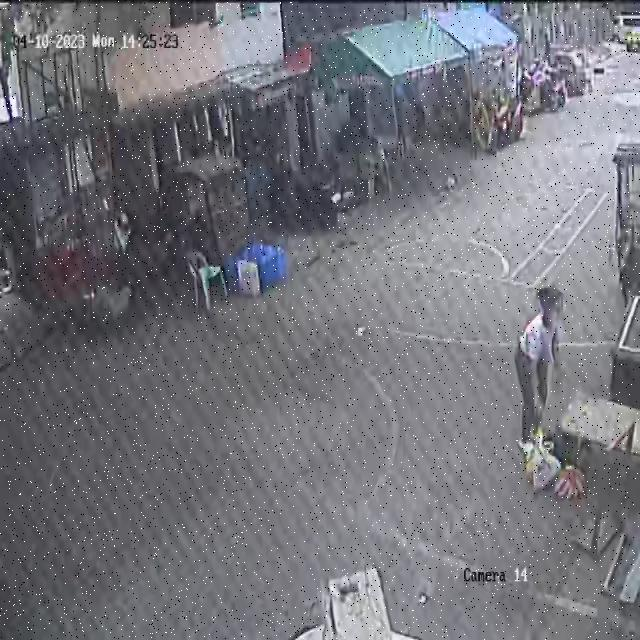human: (514, 283, 588, 501)
trash: (522, 426, 587, 509)
